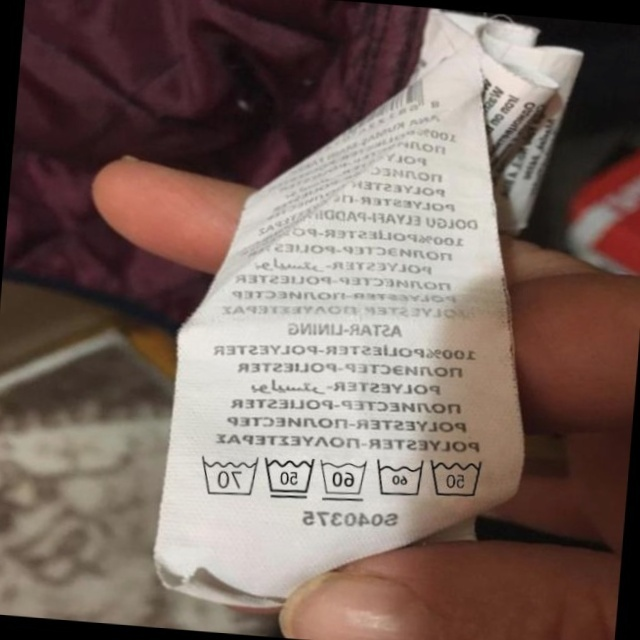50C: (424, 449, 490, 504), (258, 451, 318, 504)
60C: (313, 452, 370, 504), (369, 453, 427, 503)
70C: (192, 450, 260, 500)
